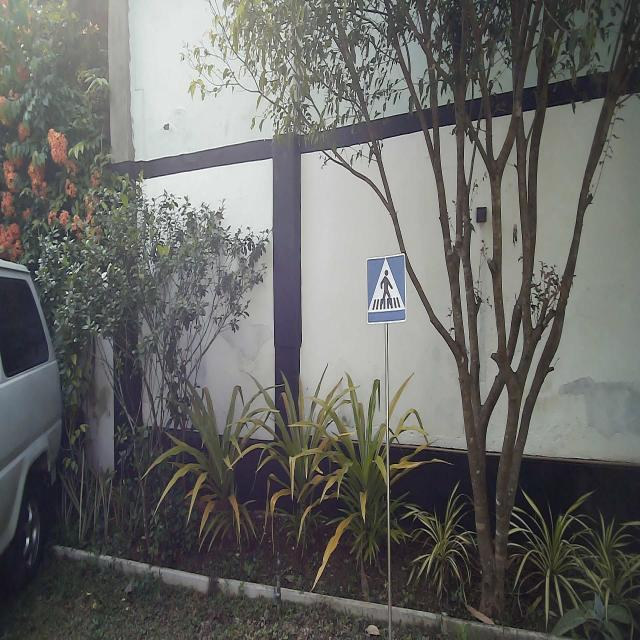crosswalk_sign: (364, 251, 408, 327)
